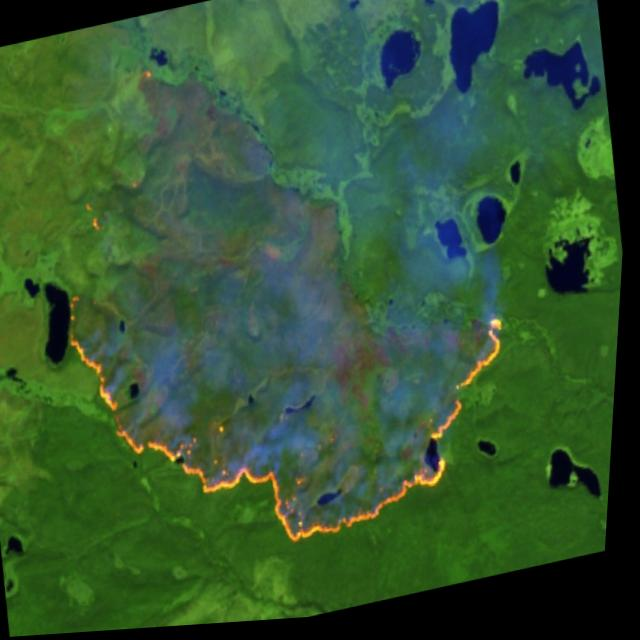fire: (39, 192, 543, 592)
